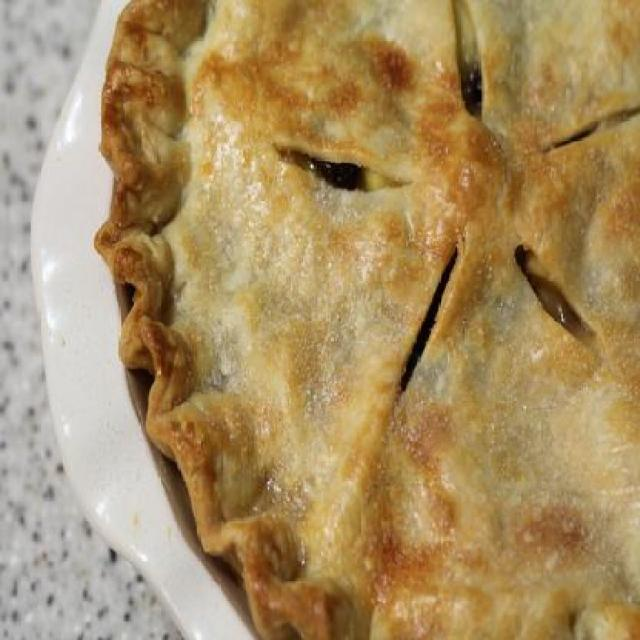Apple: (106, 8, 640, 637)
